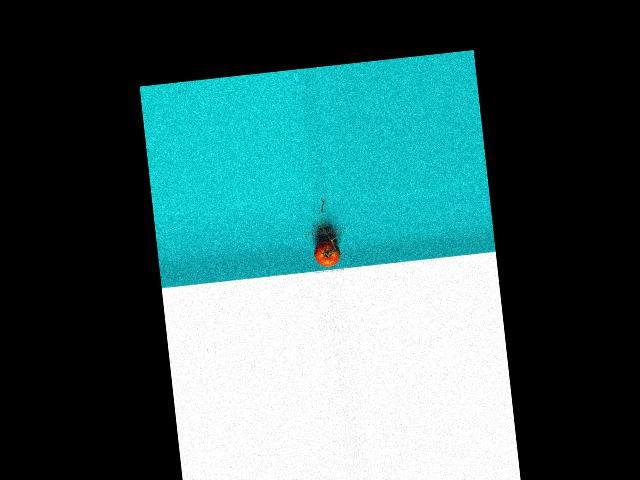tomato: (313, 239, 342, 267)
